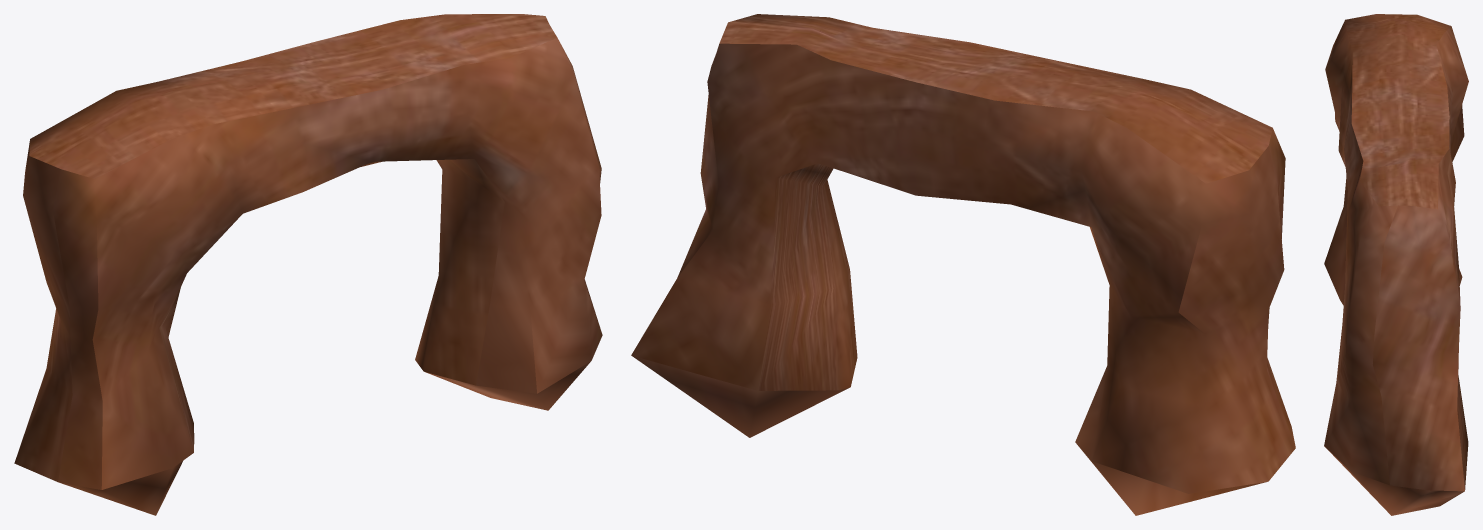
Rendered from Canyon_Rock_Platforms_10.glb.
3 views of the same model, side by side, from view 1: azimuth 30°, elevation 25°; view 2: azimuth 150°, elevation 25°; view 3: azimuth 270°, elevation 25° (orthographic). The views are drawn at different scales.
Parts seen in each view (by area): view 1: Canyon_Rock_Platforms_10_0; view 2: Canyon_Rock_Platforms_10_0; view 3: Canyon_Rock_Platforms_10_0.
Part boxes in pixels (box(x1,y1,x2,y2)): Canyon_Rock_Platforms_10_0: box(14, 14, 602, 515); Canyon_Rock_Platforms_10_0: box(631, 14, 1295, 515); Canyon_Rock_Platforms_10_0: box(1324, 14, 1468, 515).
Bounding box in the file's own units: 18.82 × 12.29 × 4.86.
1 material, 1 textured.
